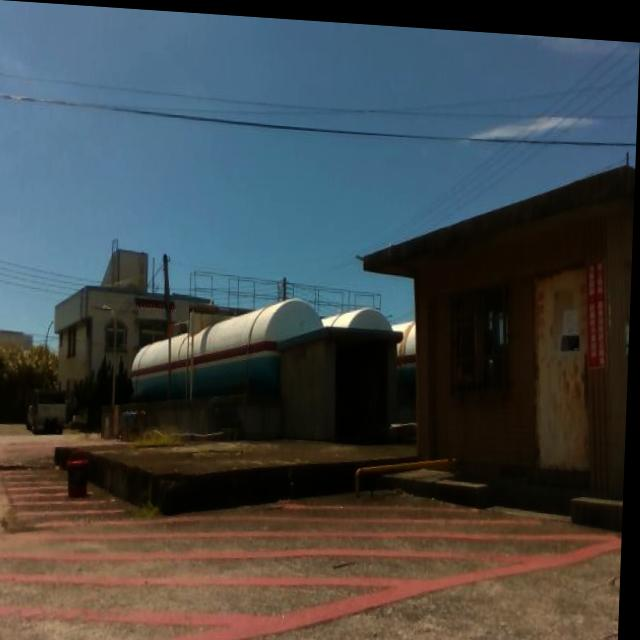pollute: (67, 445, 94, 499)
